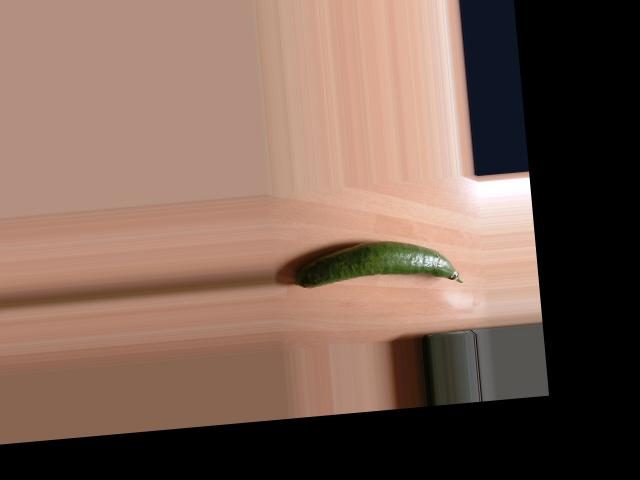cucumber: (290, 233, 463, 297)
